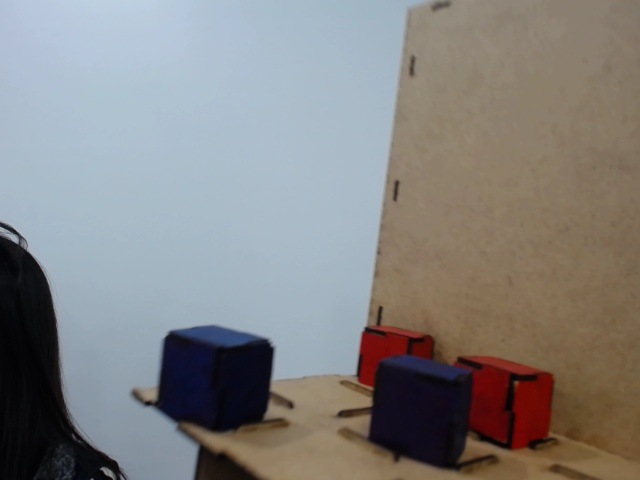blue: (159, 321, 274, 433), (370, 352, 472, 470)
red: (457, 351, 553, 449), (357, 322, 431, 393)
